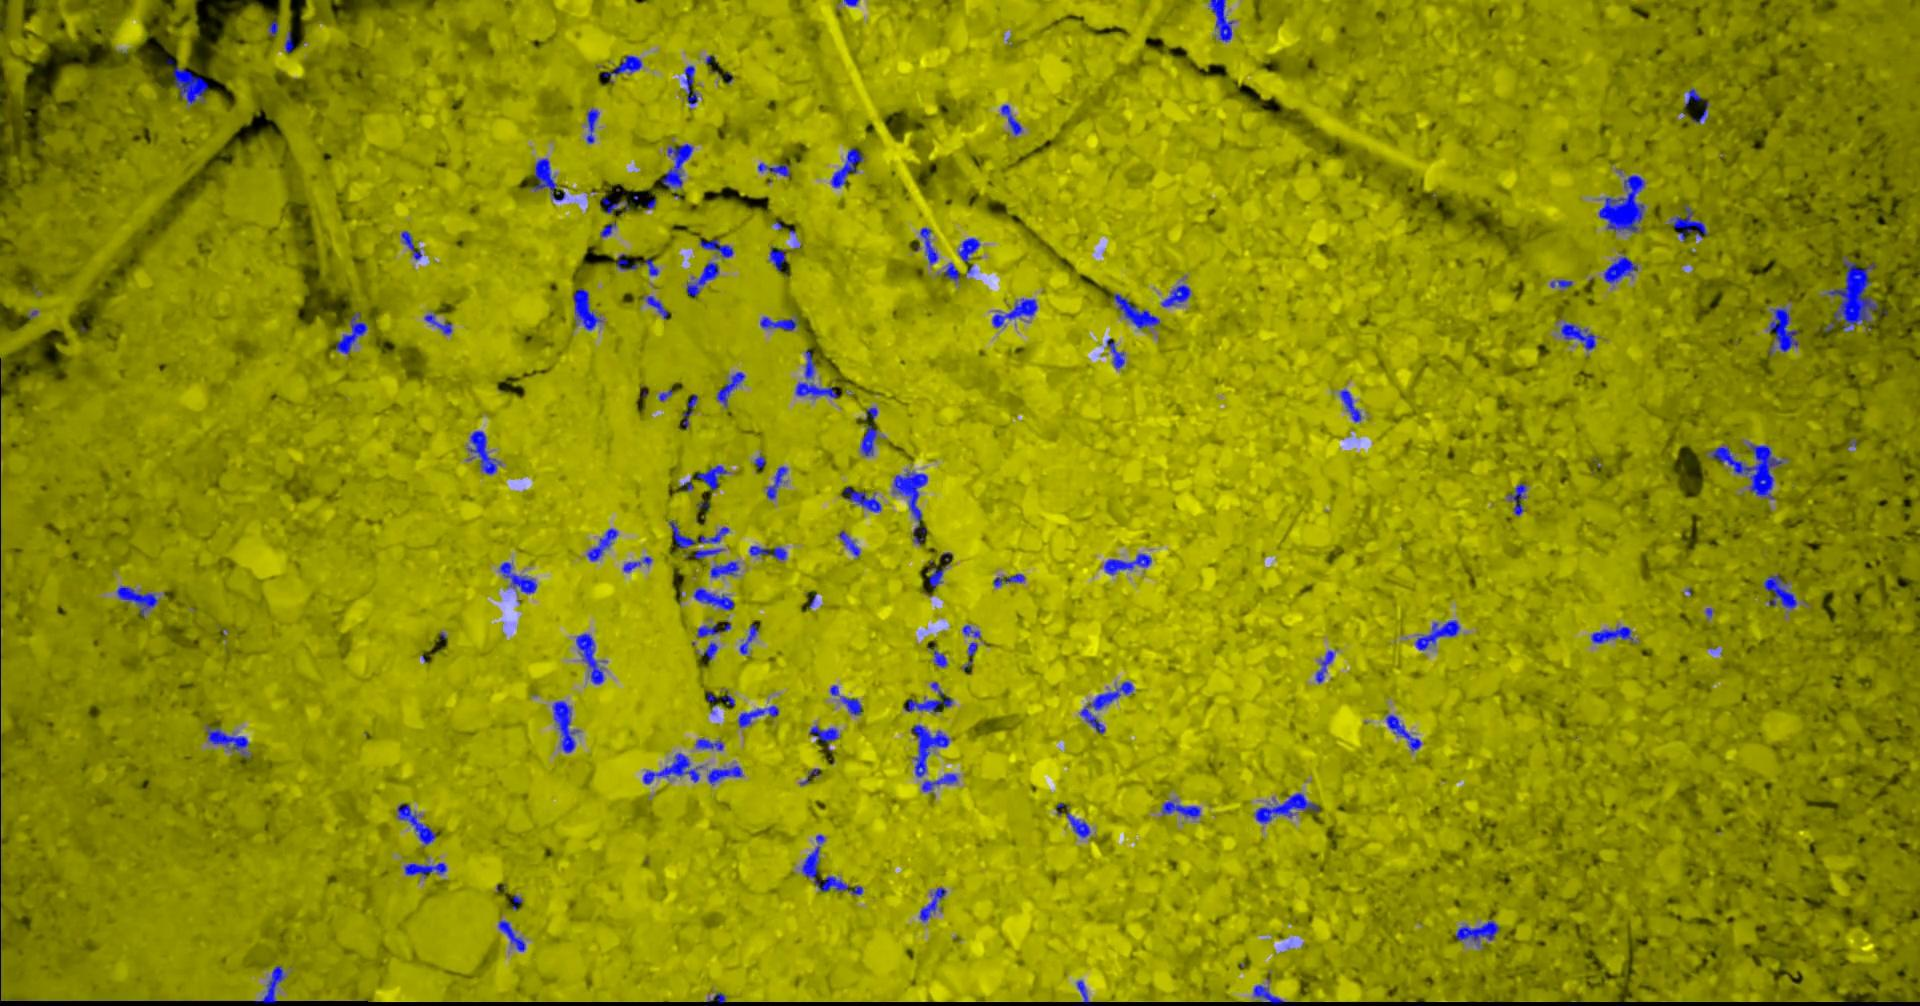ant: (1079, 681, 1133, 733), (801, 835, 850, 890), (891, 471, 927, 542), (795, 349, 838, 398), (910, 724, 949, 777), (1253, 793, 1319, 823), (643, 752, 702, 782), (668, 520, 729, 549), (396, 801, 436, 843), (1112, 293, 1159, 328), (903, 681, 952, 713), (1766, 306, 1798, 354), (206, 727, 251, 758), (530, 158, 564, 199), (467, 431, 500, 474), (575, 633, 603, 683), (1415, 619, 1459, 650), (171, 65, 208, 103), (990, 297, 1037, 326), (662, 144, 692, 188), (552, 700, 578, 752), (1670, 205, 1707, 240), (335, 312, 367, 353), (1385, 714, 1421, 749), (830, 149, 863, 187), (571, 288, 602, 329), (116, 586, 157, 615), (1454, 920, 1498, 946), (1763, 573, 1796, 608), (1057, 801, 1090, 837), (499, 561, 536, 593), (255, 965, 284, 1005), (686, 260, 717, 296), (602, 55, 641, 83), (1103, 553, 1150, 574), (585, 528, 617, 560), (1559, 323, 1595, 351), (716, 371, 744, 406), (1208, 0, 1232, 41), (1603, 255, 1637, 283), (843, 486, 880, 512), (919, 887, 946, 921), (737, 705, 778, 727), (693, 587, 734, 608), (696, 464, 728, 490), (498, 920, 524, 951), (928, 553, 951, 587), (766, 466, 787, 499), (809, 725, 838, 749), (1590, 626, 1632, 643), (1338, 389, 1360, 420), (999, 104, 1021, 135), (400, 230, 422, 260), (919, 227, 937, 264), (921, 774, 957, 791), (707, 765, 742, 784), (1161, 285, 1190, 306), (698, 238, 731, 257), (1161, 800, 1199, 817), (1507, 483, 1526, 514), (739, 622, 758, 654), (1253, 984, 1283, 1005), (1316, 650, 1333, 683), (404, 862, 446, 876), (641, 295, 667, 318), (424, 312, 451, 334), (683, 65, 697, 105), (838, 530, 858, 558), (1106, 338, 1124, 368), (759, 316, 797, 330), (748, 545, 786, 559), (682, 394, 697, 428), (860, 426, 877, 455), (957, 238, 979, 260), (601, 197, 629, 213), (706, 690, 734, 706), (585, 108, 598, 144), (963, 641, 977, 673), (623, 556, 651, 572), (710, 561, 738, 577), (757, 163, 789, 175), (992, 573, 1023, 586), (770, 246, 786, 271), (1683, 88, 1702, 108), (928, 647, 947, 667), (841, 696, 861, 715), (615, 253, 637, 269), (1691, 102, 1708, 123), (700, 641, 717, 661), (1076, 981, 1090, 1005), (696, 622, 719, 636), (695, 738, 723, 749), (943, 262, 959, 282), (799, 768, 819, 784), (693, 547, 723, 558), (599, 221, 615, 238), (644, 258, 658, 276), (963, 624, 980, 636), (707, 992, 725, 1005), (284, 30, 293, 52), (1549, 279, 1572, 287), (268, 19, 277, 36)
